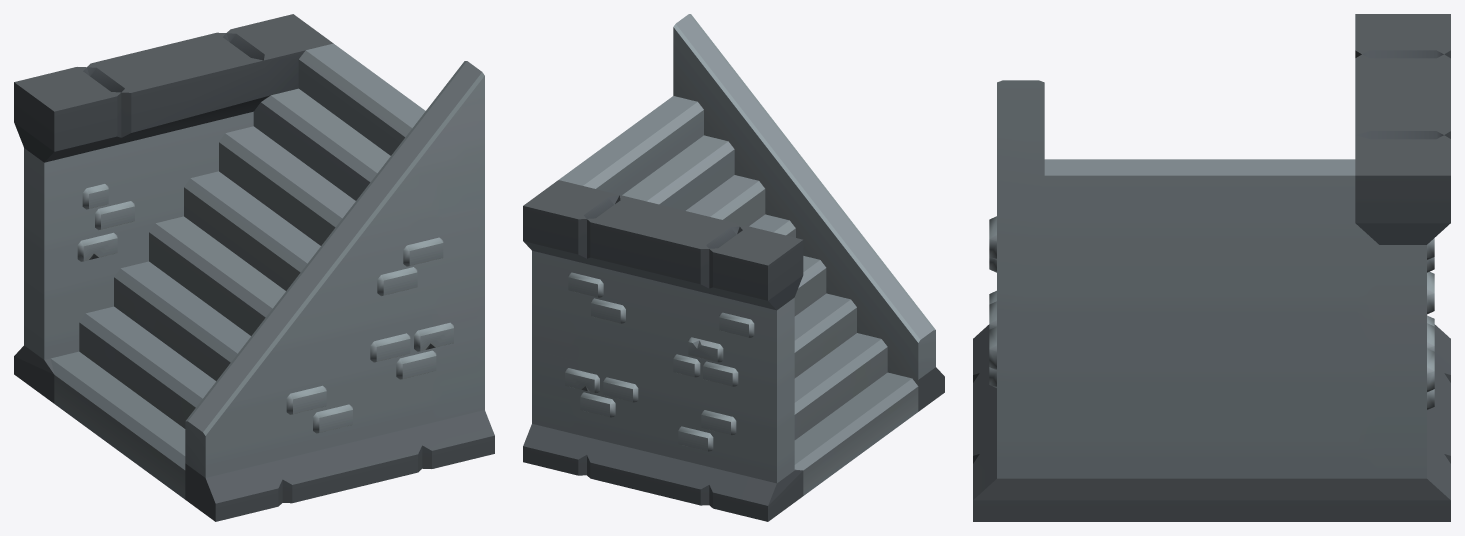
The model's file is stairs_wall_right.glb.
The picture shows the model from 3 angles, left to right: view 1: azimuth 30°, elevation 25°; view 2: azimuth 150°, elevation 25°; view 3: azimuth 270°, elevation 25°; orthographic projection. The views are drawn at different scales.
Visible parts, largest first — view 1: stairs_wall_right; view 2: stairs_wall_right; view 3: stairs_wall_right.
Boxes of the visible parts, x1,y1,x2,y2 form: stairs_wall_right: (14, 14, 494, 521); stairs_wall_right: (523, 14, 944, 521); stairs_wall_right: (973, 14, 1450, 521).
Bounding box in the file's own units: 4 × 5.1 × 5.
Materials: 1 (1 with a texture image).
